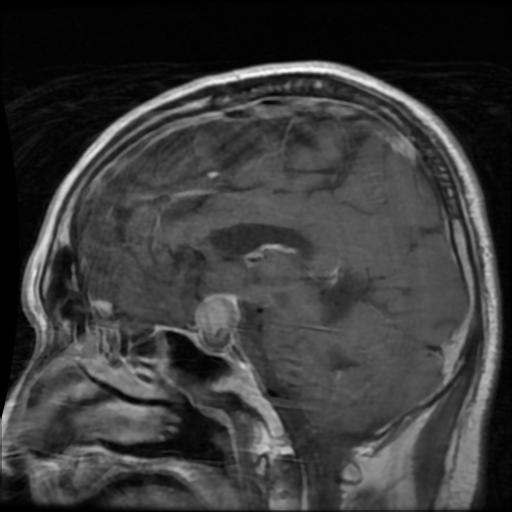Pituirity_tumour: (196, 293, 236, 341)
